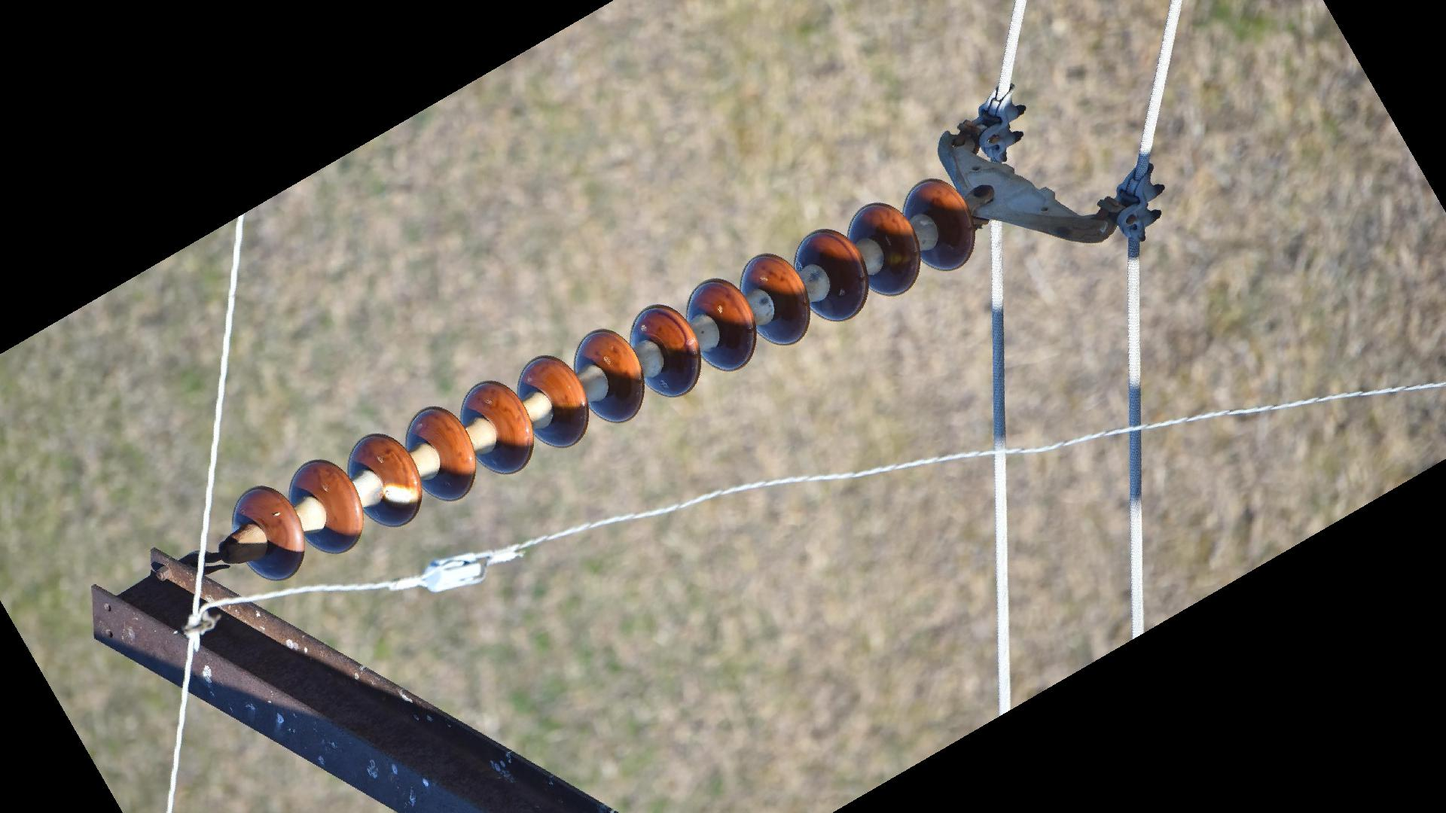insulator: (226, 173, 978, 585)
insulator_flashover: (380, 480, 421, 506)
